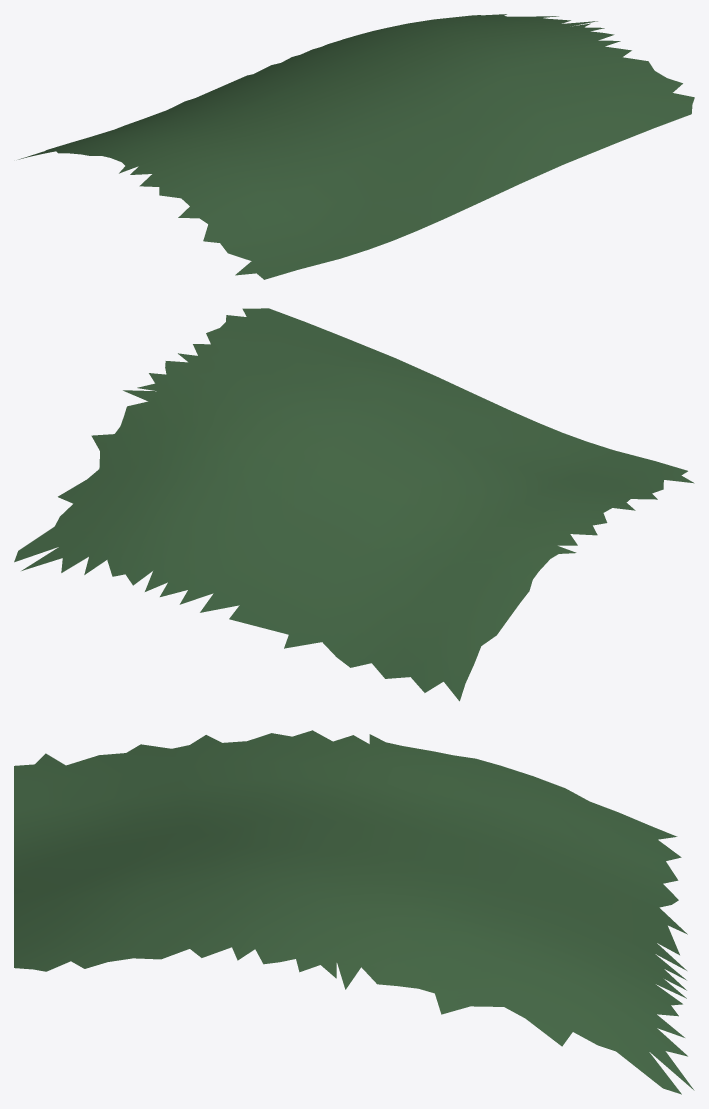
Rendered from payo_land_xm3_y10_lod1.glb.
3 renders of one model, top to bottom at view 1: azimuth 30°, elevation 25°; view 2: azimuth 150°, elevation 25°; view 3: azimuth 270°, elevation 25°, orthographic. The views are drawn at different scales.
Visible parts, largest first — view 1: payo_land_xm3_y10; view 2: payo_land_xm3_y10; view 3: payo_land_xm3_y10.
Boxes of the visible parts, left/top/right/bottom form: payo_land_xm3_y10: left=18, top=14, right=694, bottom=279; payo_land_xm3_y10: left=14, top=308, right=694, bottom=701; payo_land_xm3_y10: left=14, top=730, right=694, bottom=1094.
Bounding box in the file's own units: 276 × 71.63 × 250.
